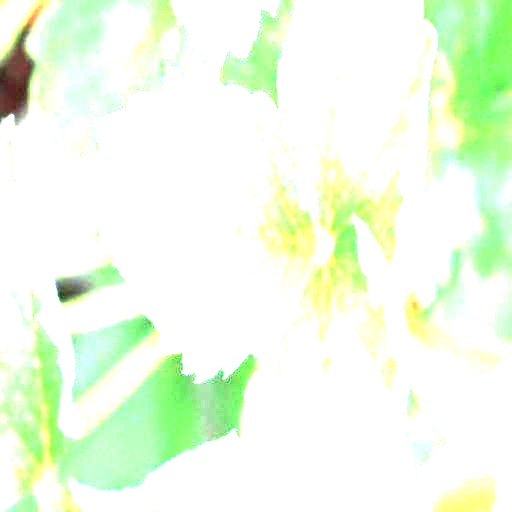Powdery Mildew Leaf: (67, 62, 319, 384), (242, 216, 411, 511), (276, 0, 438, 294), (0, 113, 82, 477), (72, 428, 305, 511)
